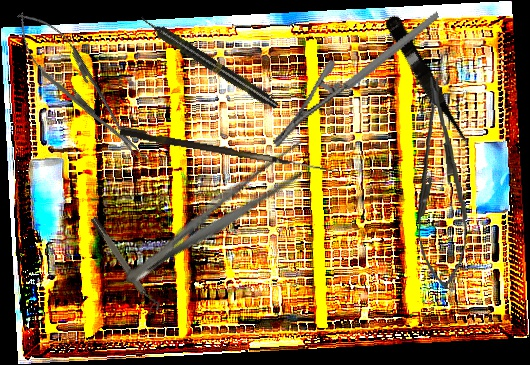Dressing Forceps: (116, 134, 320, 298)
Fixation Ring: (88, 212, 163, 316)
Handpiece: (137, 12, 281, 112)
Hook Surgical: (119, 125, 338, 174)
Micro Scissor: (380, 12, 476, 155)
Needle Holder: (250, 11, 463, 149), (2, 0, 154, 168), (408, 75, 473, 291)
